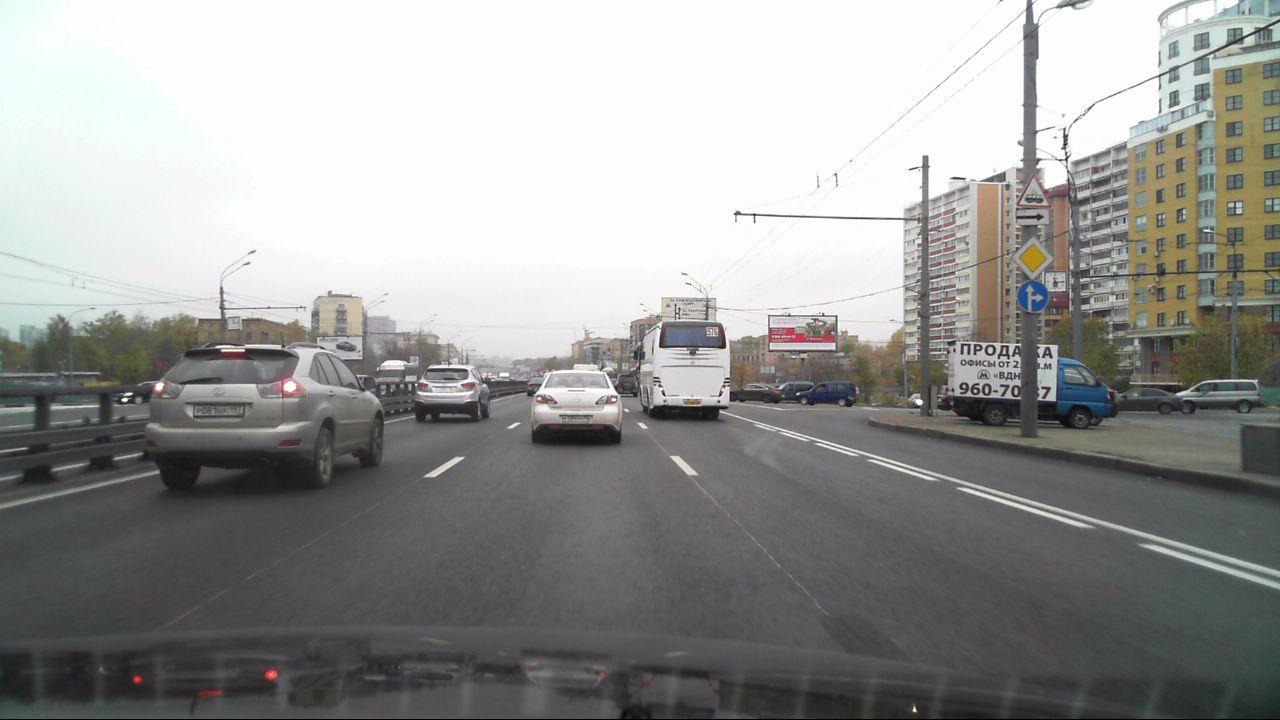1_5: (1016, 175, 1050, 208)
2_1: (1012, 232, 1056, 278)
4_1_4: (1015, 280, 1050, 314)
8_3_1: (1013, 209, 1052, 227)
